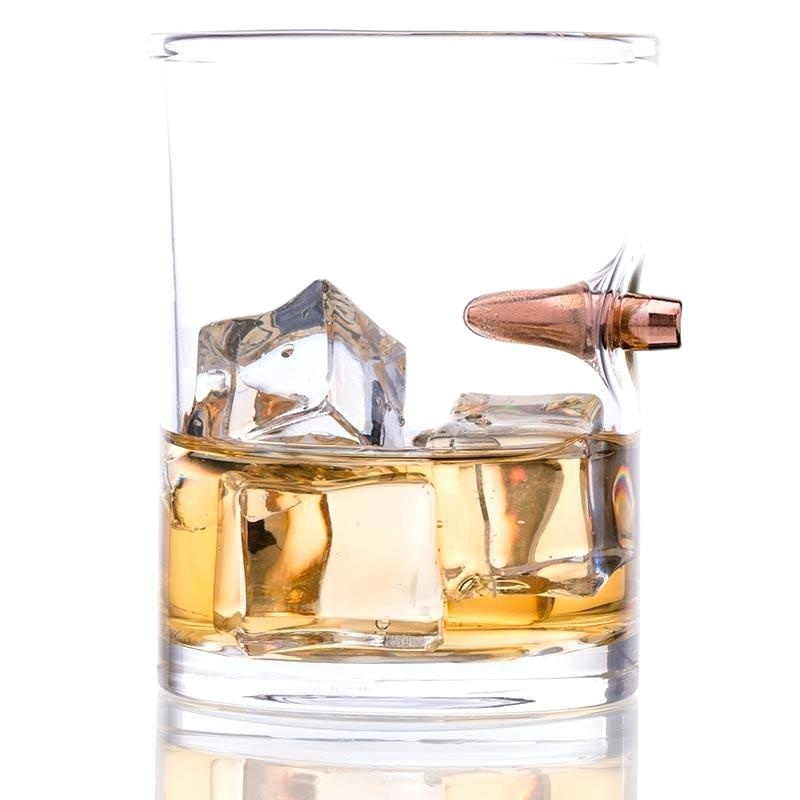whiskey: (160, 30, 665, 716)
